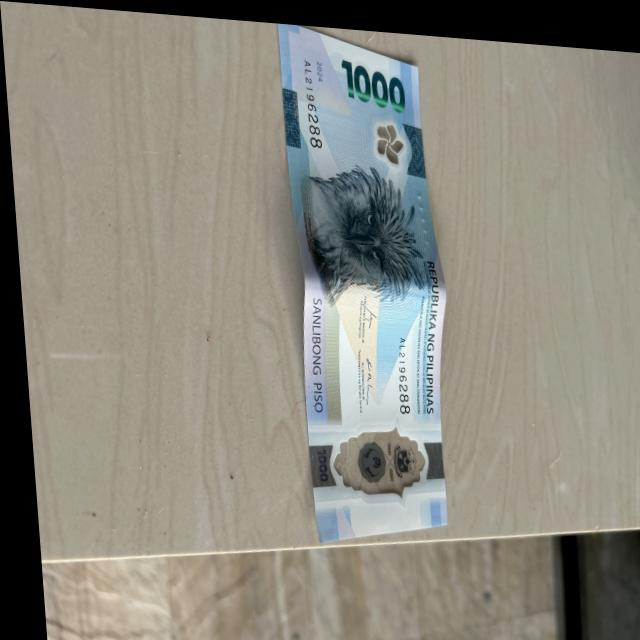clear_window: (320, 413, 425, 504)
eagle: (304, 158, 427, 295)
sampaguita: (373, 112, 406, 162)
